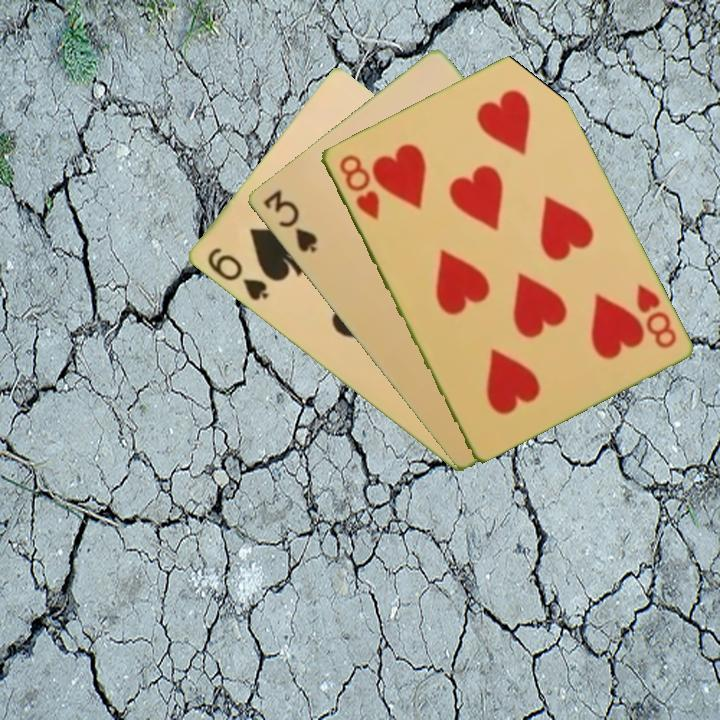3s: (259, 185, 320, 256)
6s: (203, 244, 271, 304)
8h: (335, 150, 382, 223), (632, 280, 679, 351)
